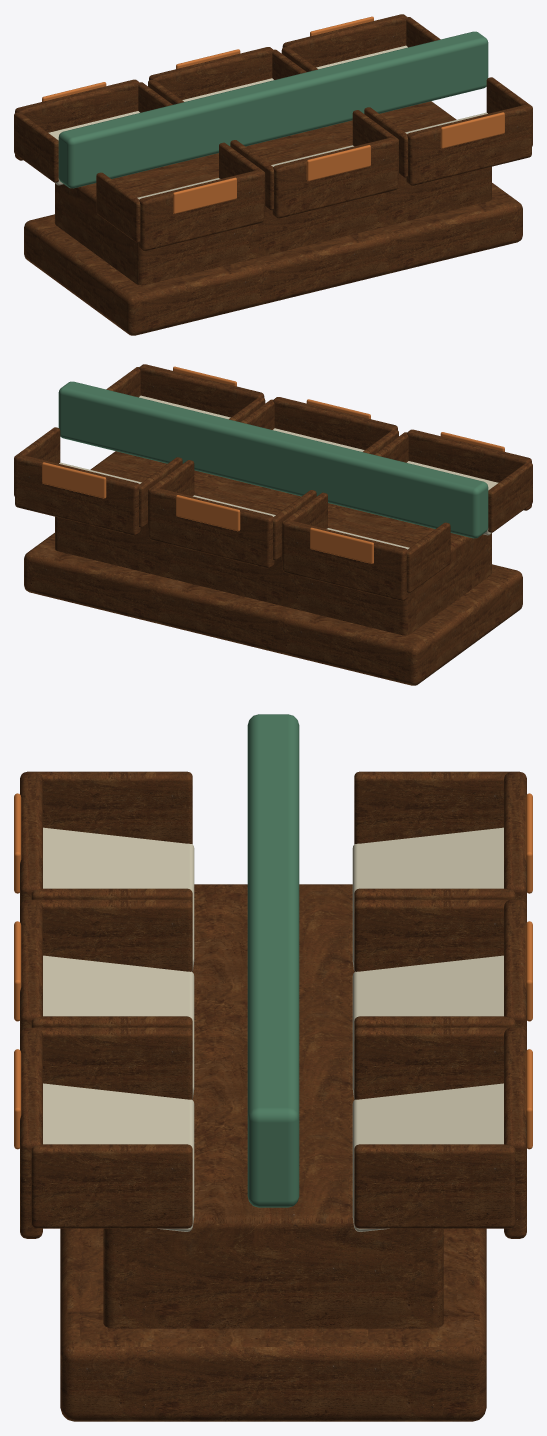
The model's file is grocery_produce_table.glb.
The picture shows the model from 3 angles, top to bottom: view 1: azimuth 30°, elevation 25°; view 2: azimuth 150°, elevation 25°; view 3: azimuth 270°, elevation 25°; orthographic projection. The views are drawn at different scales.
Visible parts, largest first — view 1: grocery_produce_table_ss_period_wood_laminate_pbr, grocery_produce_table_ag_weathered_green_enamel_pbr, grocery_produce_table_ag_price_rail_orange_pbr, grocery_produce_table_ag_aged_cream_enamel_pbr; view 2: grocery_produce_table_ss_period_wood_laminate_pbr, grocery_produce_table_ag_weathered_green_enamel_pbr, grocery_produce_table_ag_price_rail_orange_pbr, grocery_produce_table_ag_aged_cream_enamel_pbr; view 3: grocery_produce_table_ss_period_wood_laminate_pbr, grocery_produce_table_ag_aged_cream_enamel_pbr, grocery_produce_table_ag_weathered_green_enamel_pbr, grocery_produce_table_ag_price_rail_orange_pbr.
Boxes of the visible parts, <box> form: grocery_produce_table_ss_period_wood_laminate_pbr: <box>14,14,532,335</box>; grocery_produce_table_ag_weathered_green_enamel_pbr: <box>58,31,488,188</box>; grocery_produce_table_ag_price_rail_orange_pbr: <box>42,16,504,213</box>; grocery_produce_table_ag_aged_cream_enamel_pbr: <box>48,45,487,199</box>; grocery_produce_table_ss_period_wood_laminate_pbr: <box>14,364,532,685</box>; grocery_produce_table_ag_weathered_green_enamel_pbr: <box>58,381,488,538</box>; grocery_produce_table_ag_price_rail_orange_pbr: <box>42,366,504,563</box>; grocery_produce_table_ag_aged_cream_enamel_pbr: <box>59,395,498,549</box>; grocery_produce_table_ss_period_wood_laminate_pbr: <box>20,771,526,1421</box>; grocery_produce_table_ag_aged_cream_enamel_pbr: <box>43,827,503,1231</box>; grocery_produce_table_ag_weathered_green_enamel_pbr: <box>247,714,299,1207</box>; grocery_produce_table_ag_price_rail_orange_pbr: <box>14,793,532,1149</box>.
Bounding box in the file's own units: 3.3 × 1.25 × 1.8.
Materials: 5 (1 with a texture image).
